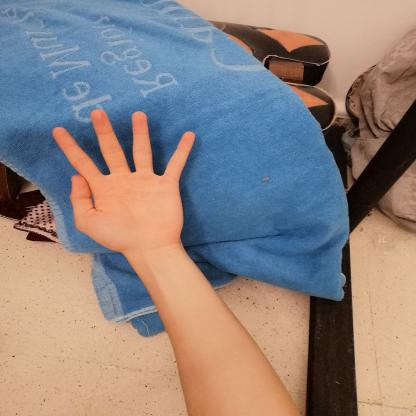SHEEN: (38, 103, 206, 265)
